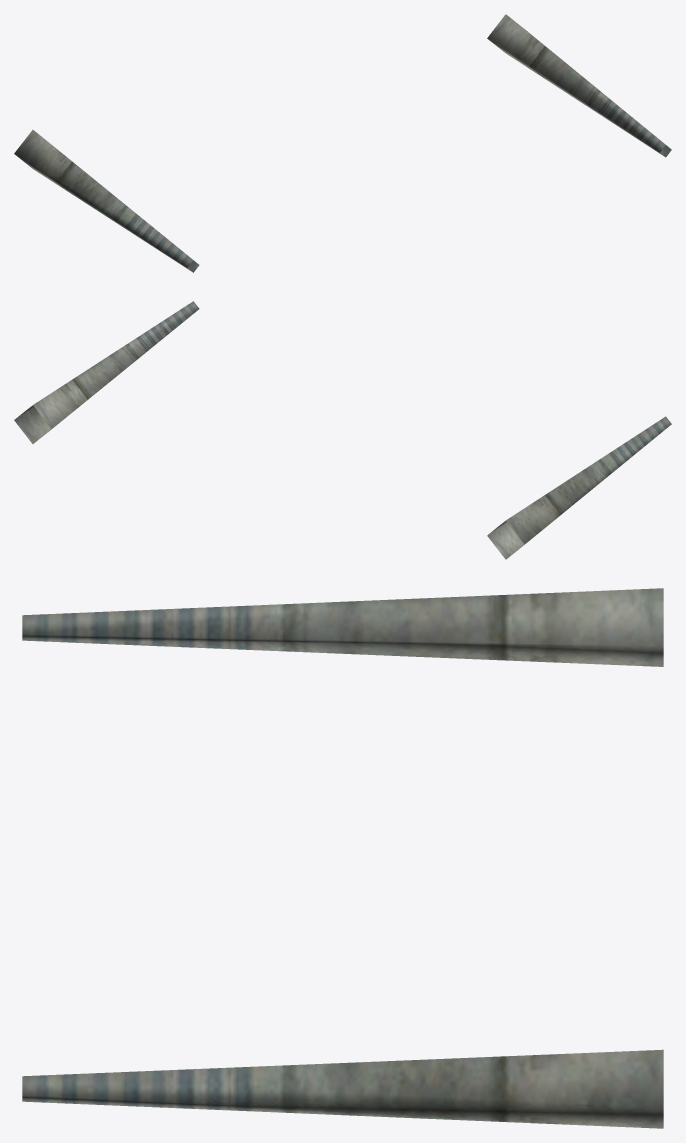
File: hutt_fighter_heavy_weapon1_s01_l1.fbx
3 renders of one model, top to bottom at view 1: azimuth 30°, elevation 25°; view 2: azimuth 150°, elevation 25°; view 3: azimuth 270°, elevation 25°, orthographic. The views are drawn at different scales.
Visible parts, largest first — view 1: mesh_node; view 2: mesh_node; view 3: mesh_node.
Part boxes in pixels (bbox=[...]): mesh_node: bbox=[14, 14, 671, 272]; mesh_node: bbox=[14, 301, 671, 559]; mesh_node: bbox=[22, 588, 663, 1128].
Bounding box in the file's own units: 2.57 × 0.1895 × 1.4.
